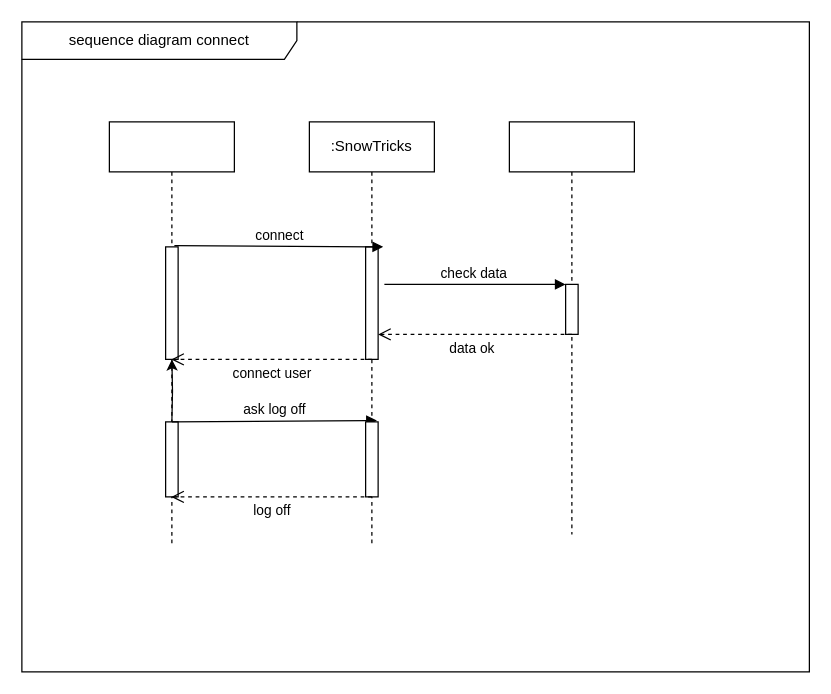
This 831x694 diagram has some shape labels left out. The centre of each missing label's shape, as x and y in pixels:
:BDD: pixel 571 327
:Connect User: pixel 171 334
